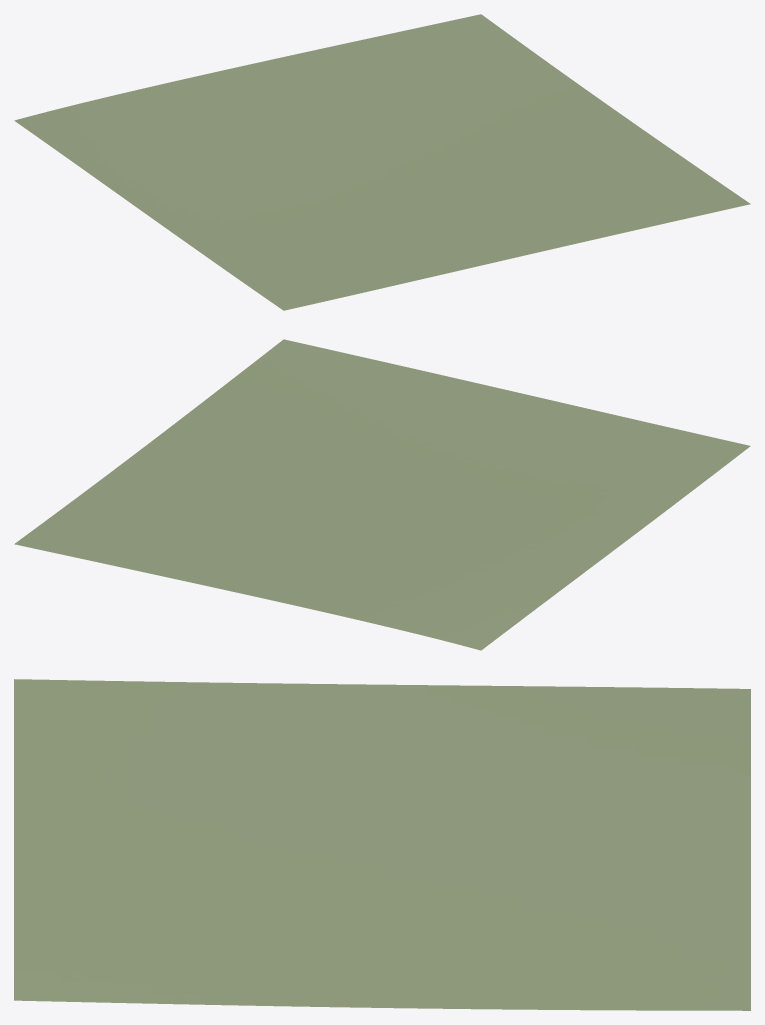
Rendered from expanse-17-5.glb.
The picture shows the model from 3 angles, top to bottom: view 1: azimuth 30°, elevation 25°; view 2: azimuth 150°, elevation 25°; view 3: azimuth 270°, elevation 25°; orthographic projection. The views are drawn at different scales.
Visible parts, largest first — view 1: expanse-17-5; view 2: expanse-17-5; view 3: expanse-17-5.
Boxes of the visible parts, x1,y1,x2,y2 form: expanse-17-5: (14,14,750,310); expanse-17-5: (14,339,750,650); expanse-17-5: (14,679,750,1010).
Bounding box in the file's own units: 256 × 7.75 × 256.
